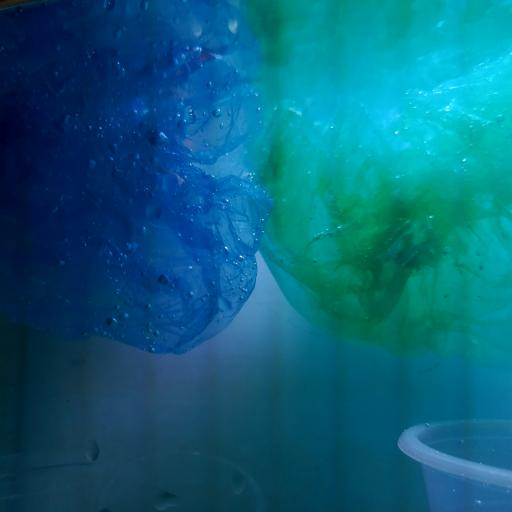plastic_bag: (1, 0, 273, 355), (261, 0, 512, 355)
plastic_cup: (97, 446, 266, 512), (399, 415, 512, 512)
